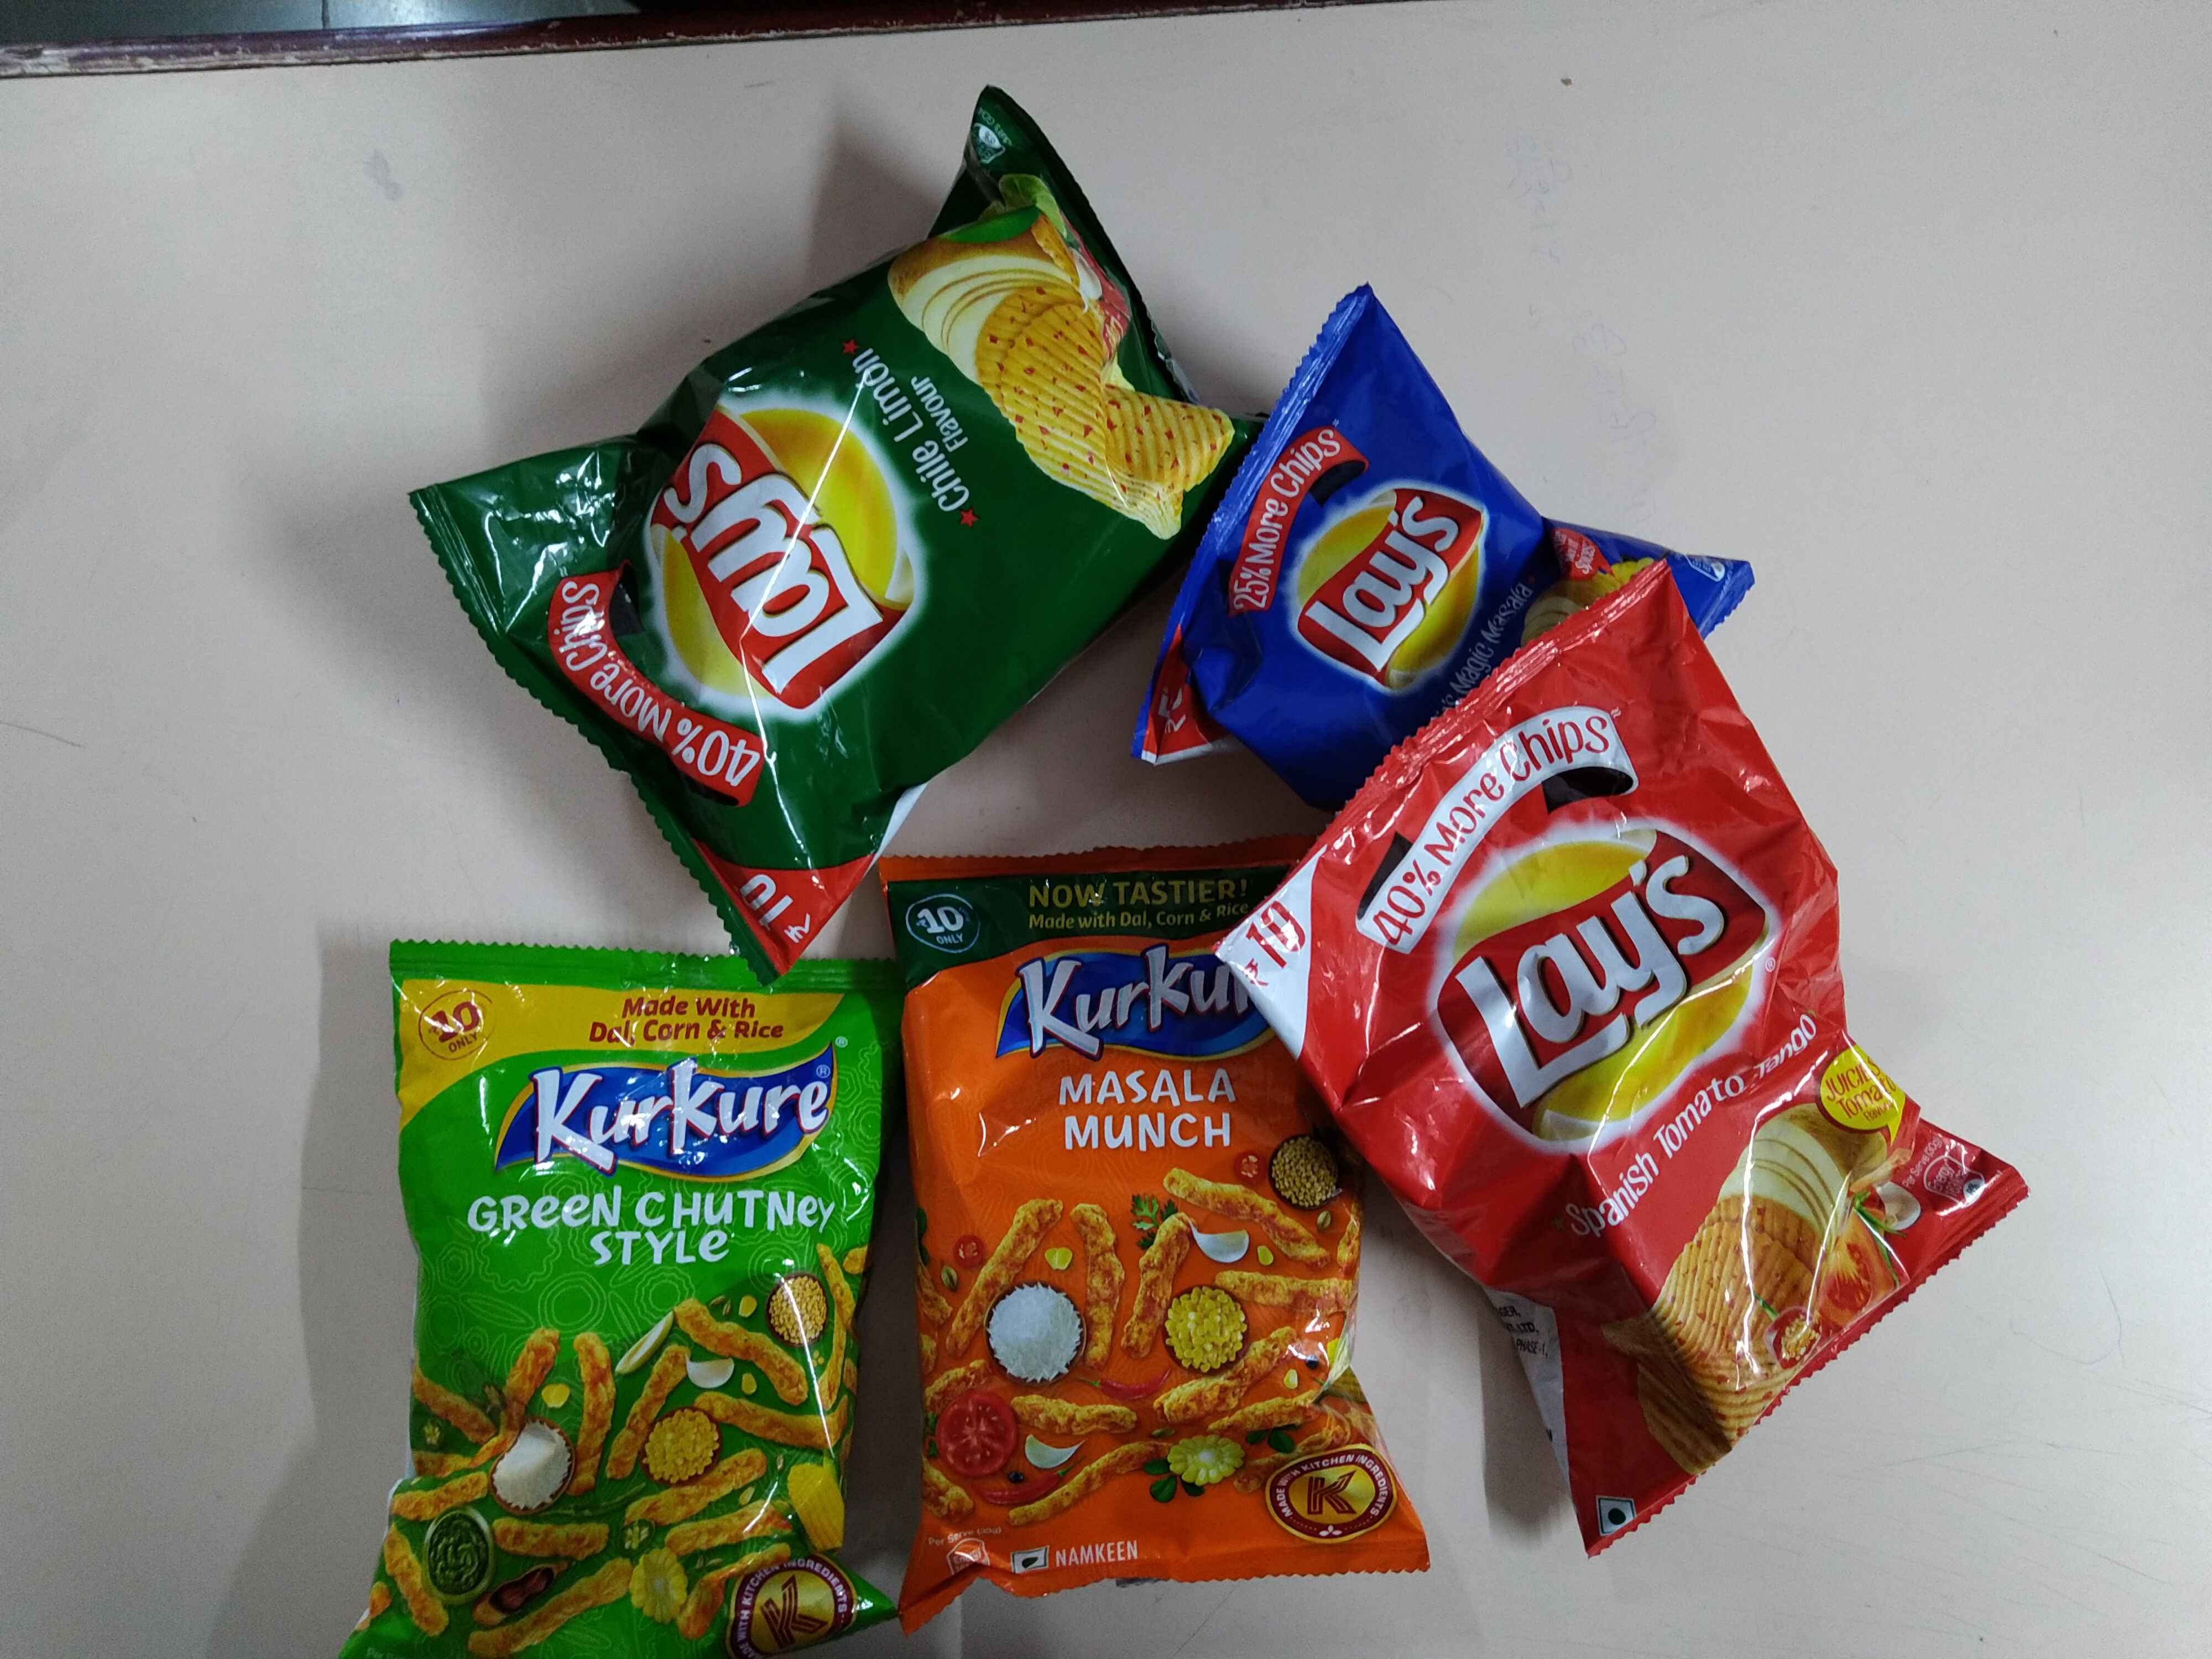Lays: (1435, 826, 1780, 1169), (625, 396, 937, 708), (1271, 493, 1508, 676)
kurkure: (482, 1037, 855, 1180), (988, 943, 1259, 1077)
